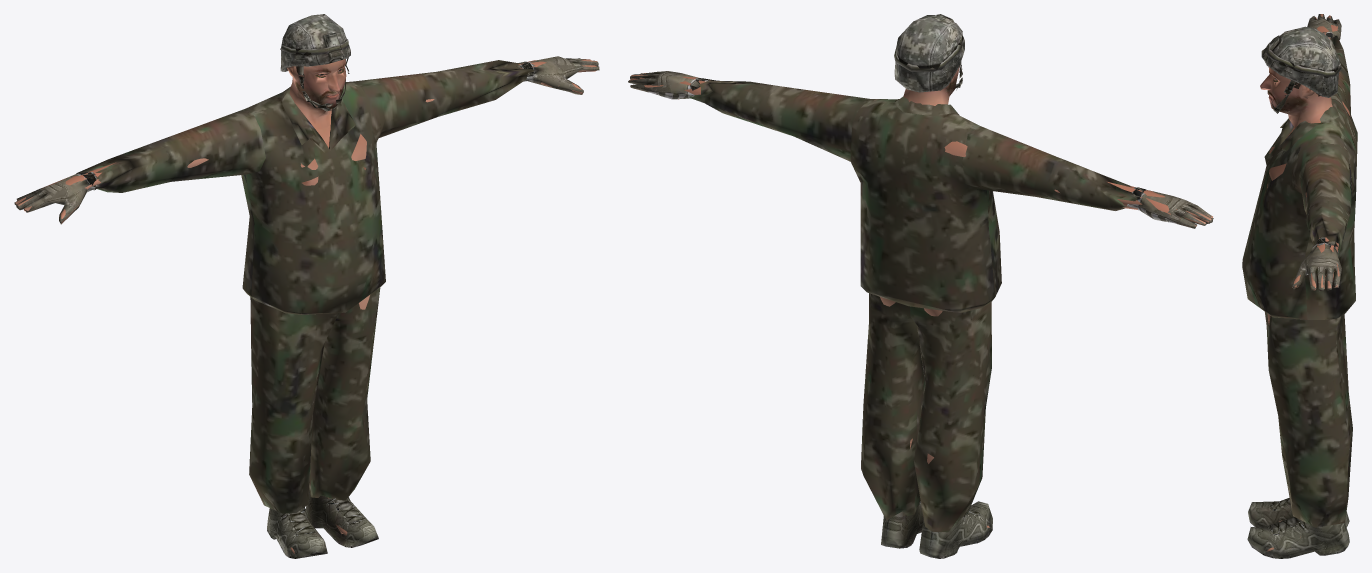
Rendered from military_man_army_man_soldier.glb.
The picture shows the model from 3 angles, left to right: view 1: azimuth 30°, elevation 25°; view 2: azimuth 150°, elevation 25°; view 3: azimuth 270°, elevation 25°; orthographic projection. The views are drawn at different scales.
Parts seen in each view (by area): view 1: Object_7, Object_2, Object_6, Object_8, Object_3, Object_5; view 2: Object_7, Object_2, Object_5, Object_6, Object_3, Object_8; view 3: Object_7, Object_2, Object_6, Object_5, Object_8, Object_3.
Boxes of the visible parts, x1,y1,x2,y2 form: Object_7: [76, 60, 534, 314]; Object_2: [249, 287, 380, 513]; Object_6: [267, 490, 378, 558]; Object_8: [15, 59, 597, 553]; Object_3: [14, 56, 599, 224]; Object_5: [280, 14, 350, 111]; Object_7: [689, 78, 1137, 312]; Object_2: [861, 293, 991, 532]; Object_5: [894, 14, 964, 92]; Object_6: [881, 501, 992, 558]; Object_3: [628, 71, 1213, 228]; Object_8: [629, 66, 1212, 527]; Object_7: [1242, 35, 1357, 319]; Object_2: [1265, 312, 1352, 527]; Object_6: [1247, 497, 1349, 558]; Object_5: [1261, 26, 1341, 113]; Object_8: [1260, 14, 1350, 551]; Object_3: [1292, 14, 1341, 291].
Size of the model in its own units: 213 by 182 by 37.55.
Materials: 7 (7 with a texture image).
